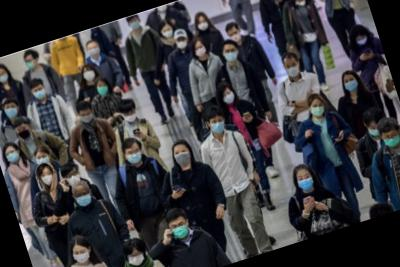with_mask: (169, 218, 192, 242), (296, 170, 318, 194), (73, 188, 96, 210), (72, 245, 94, 266), (174, 146, 194, 168), (126, 249, 148, 267), (210, 116, 229, 136), (222, 45, 241, 64), (309, 100, 328, 119), (381, 130, 400, 149), (285, 60, 303, 80), (4, 146, 22, 165), (126, 147, 145, 165), (343, 74, 361, 93), (15, 124, 33, 142), (40, 169, 57, 188), (222, 88, 239, 107), (368, 120, 385, 139), (66, 170, 83, 188), (3, 103, 20, 120), (31, 85, 48, 101), (82, 66, 98, 83), (35, 152, 52, 168), (354, 33, 372, 48), (79, 109, 95, 124), (124, 109, 139, 125), (175, 36, 190, 52), (229, 29, 245, 44), (88, 43, 102, 60), (96, 82, 111, 97), (196, 17, 211, 32), (193, 43, 208, 58), (129, 16, 143, 31), (24, 57, 37, 70), (162, 26, 176, 38)
